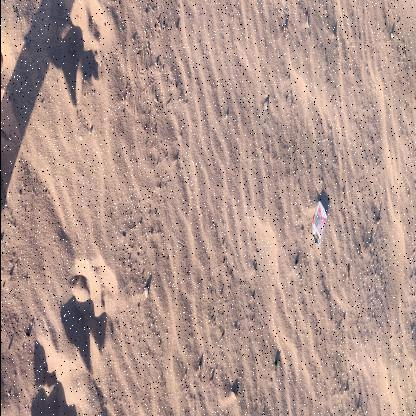cardboard: (310, 200, 326, 245)
